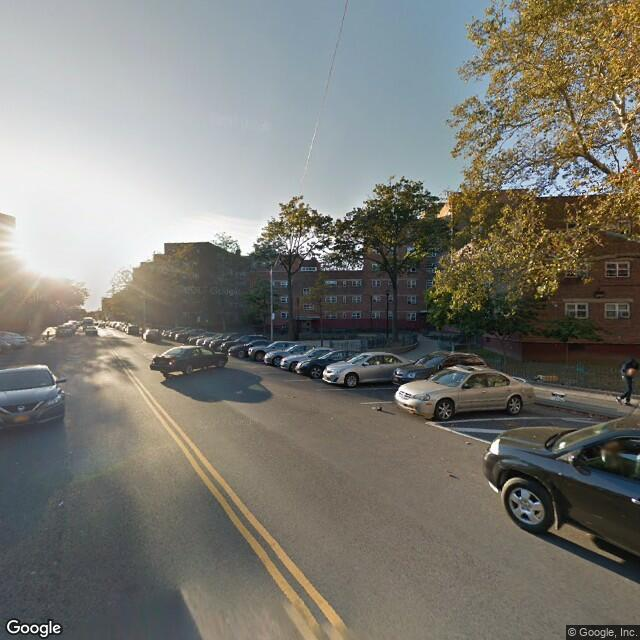litter: (551, 392, 566, 404), (372, 406, 384, 413)
